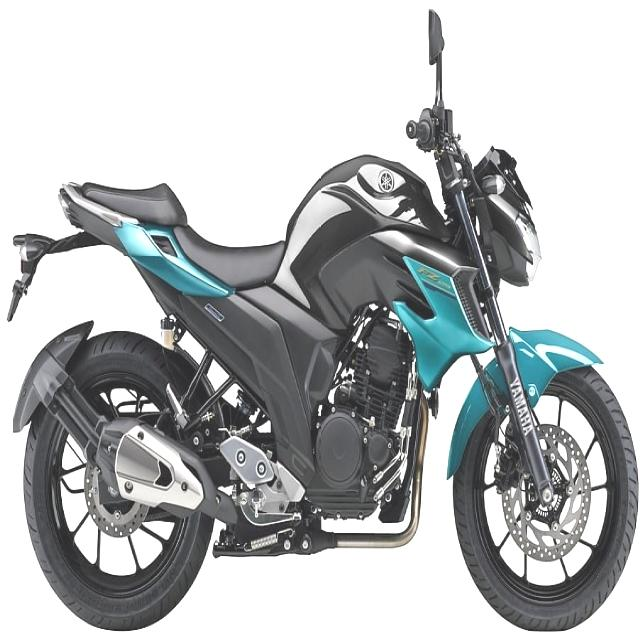MOTORCYCLE: (10, 115, 638, 629)
